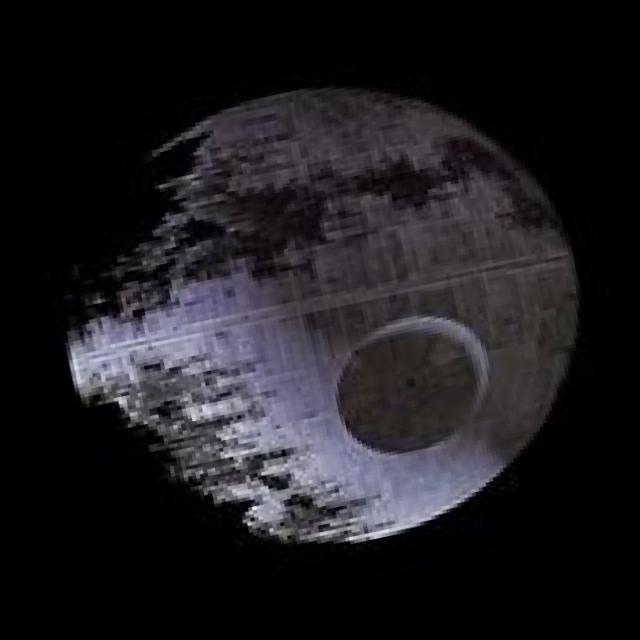Death Star: (22, 39, 626, 599)
